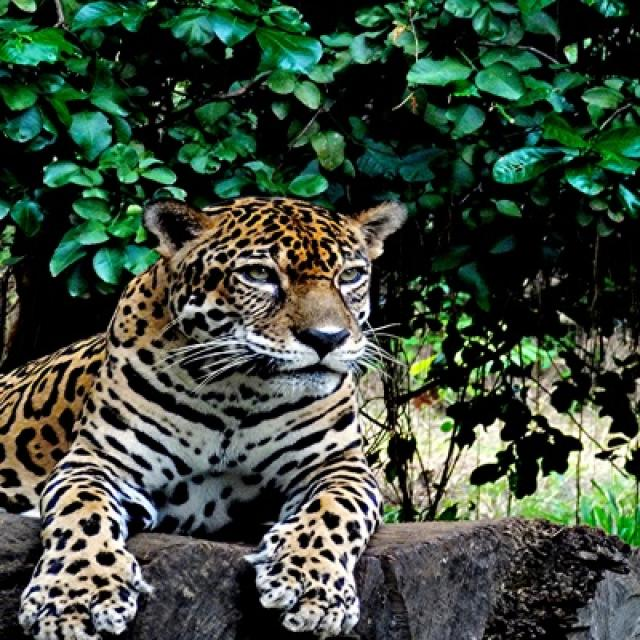Jaguar: (0, 195, 411, 638)
